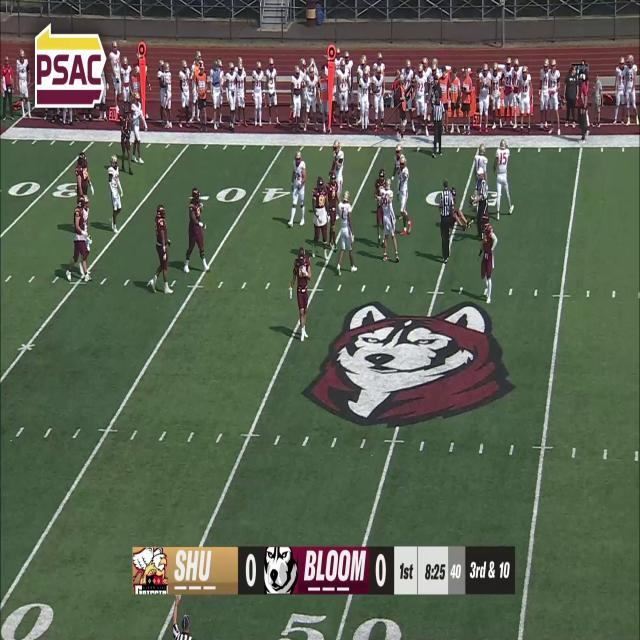football: (468, 193, 476, 208)
